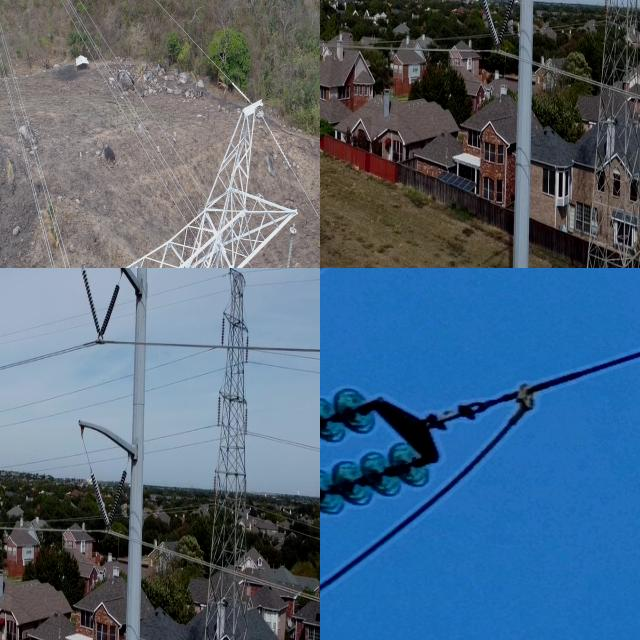杆塔: (0, 106, 300, 268), (196, 268, 254, 640), (581, 0, 640, 268)
正常电缆: (497, 48, 640, 107), (320, 33, 498, 57)
正常绝缘子: (320, 435, 443, 518), (320, 379, 393, 448), (92, 270, 127, 355), (100, 458, 129, 548), (84, 460, 116, 538), (78, 268, 107, 349), (478, 0, 520, 50), (285, 224, 298, 268), (242, 399, 250, 442), (216, 392, 223, 433), (245, 334, 252, 369), (220, 314, 226, 349), (601, 0, 609, 22)
